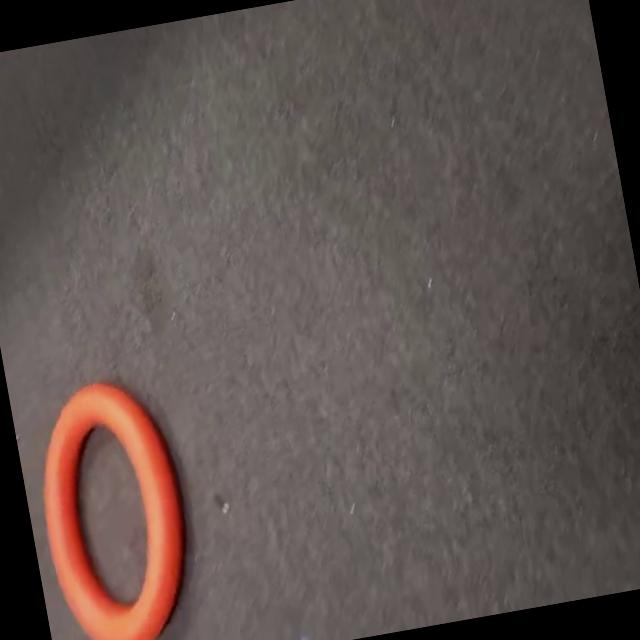note: (17, 364, 215, 640)
